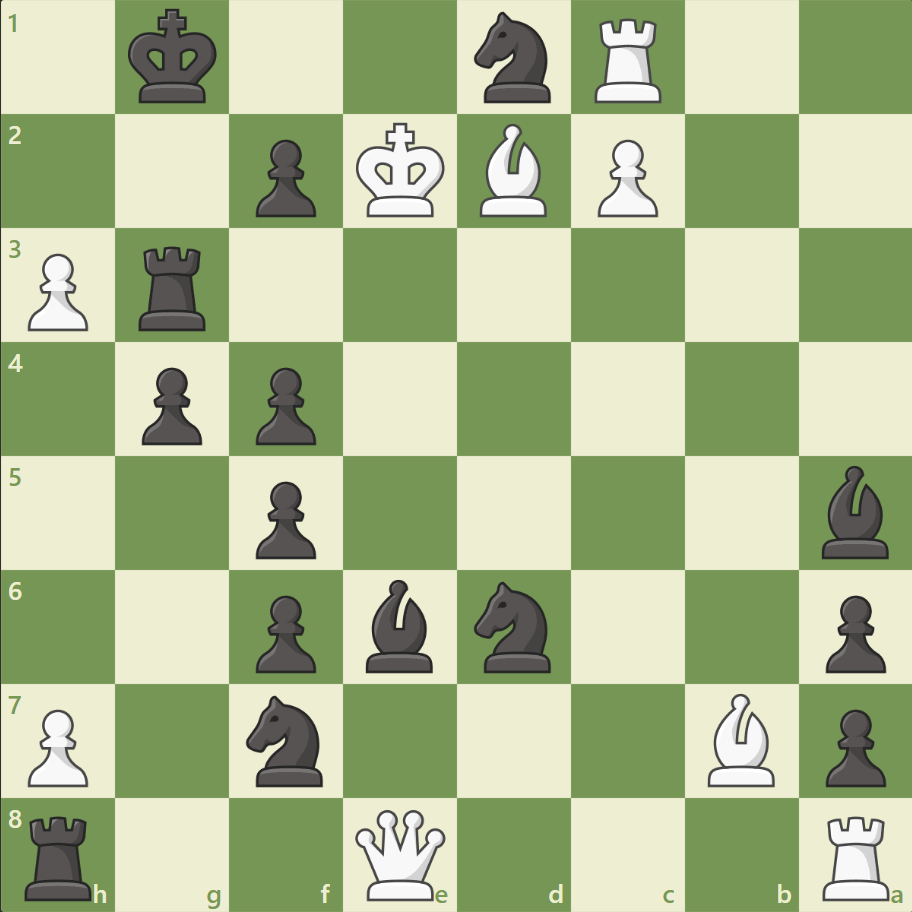B: (698, 687, 782, 790), (471, 120, 555, 222)
K: (351, 117, 451, 225)
P: (20, 700, 95, 791), (20, 246, 95, 337), (588, 132, 662, 223)
Q: (351, 804, 450, 903)
R: (814, 806, 897, 904), (587, 12, 670, 109)
b: (812, 460, 896, 563), (358, 574, 442, 676)
k: (124, 4, 224, 112)
n: (238, 688, 335, 791), (465, 7, 562, 110), (465, 575, 562, 677)
p: (247, 586, 322, 677), (247, 473, 322, 564), (247, 359, 322, 450), (133, 359, 208, 450), (247, 132, 322, 223), (815, 700, 889, 791), (815, 586, 889, 677)
r: (19, 806, 102, 904), (133, 239, 215, 336)
